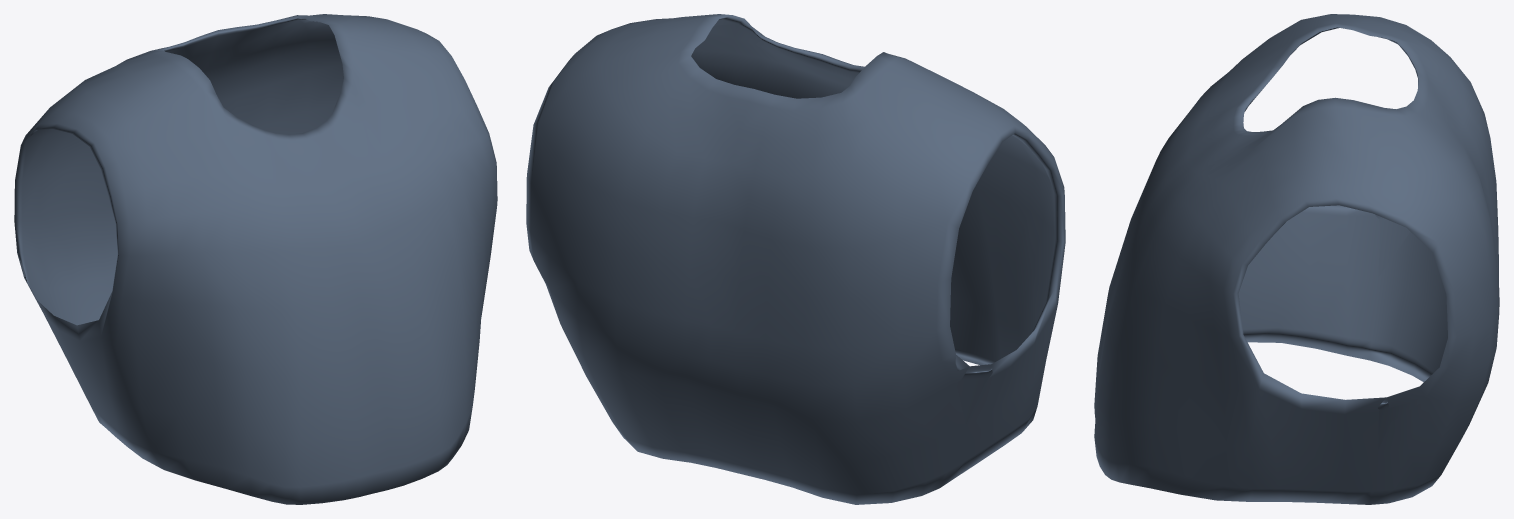
File: Shirt_MK1.obj
The picture shows the model from 3 angles, left to right: view 1: azimuth 30°, elevation 25°; view 2: azimuth 150°, elevation 25°; view 3: azimuth 270°, elevation 25°; orthographic projection. The views are drawn at different scales.
Visible parts, largest first — view 1: Shirt; view 2: Shirt; view 3: Shirt.
Part boxes in pixels (left/top/right/bottom): Shirt: left=14, top=14, right=497, bottom=504; Shirt: left=526, top=14, right=1065, bottom=504; Shirt: left=1094, top=14, right=1499, bottom=504.
Size of the model in its own units: 43.39 by 38.13 by 36.77.
